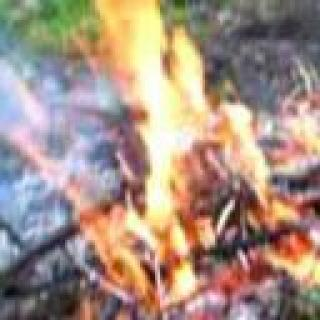fire: (67, 0, 270, 320), (235, 63, 320, 279)
